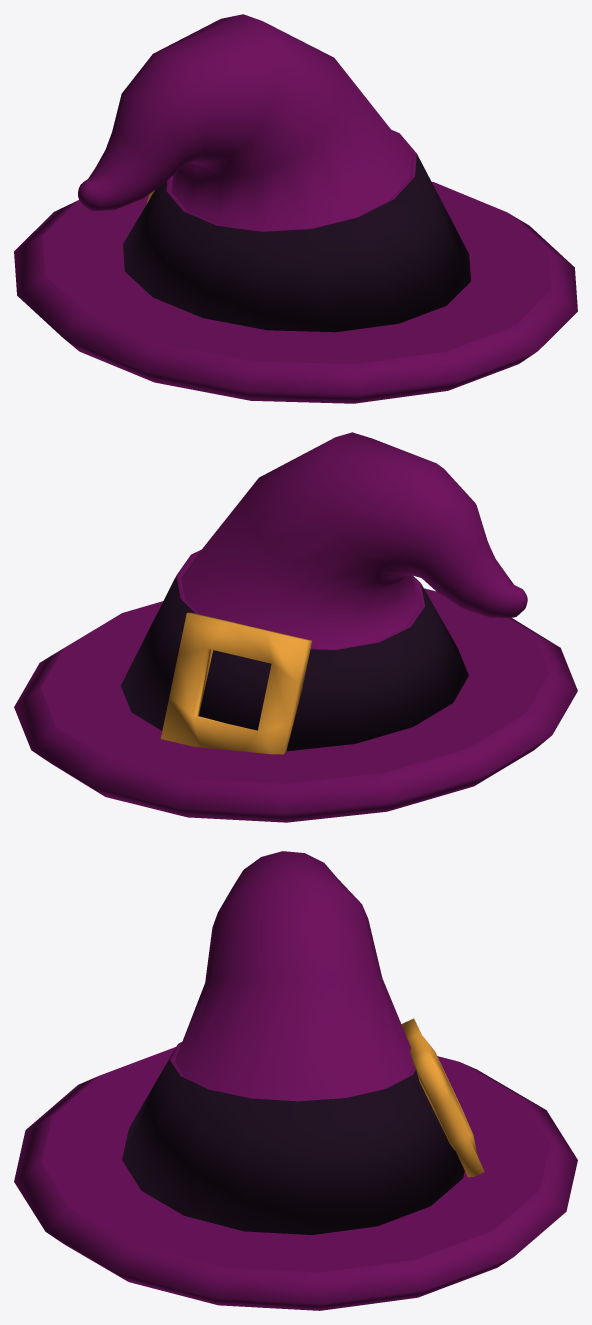
File: WitchHat.glb
3 views of the same model, one above another, from view 1: azimuth 30°, elevation 25°; view 2: azimuth 150°, elevation 25°; view 3: azimuth 270°, elevation 25° (orthographic).
Parts seen in each view (by area): view 1: Hat; view 2: Hat, Buckle; view 3: Hat, Buckle.
Part boxes in pixels (x1,y1,x2,y2): Hat: (14,14,577,403); Hat: (14,432,577,822); Buckle: (160,612,311,754); Hat: (14,851,577,1310); Buckle: (401,1018,484,1177).
Size of the model in its own units: 1.15 by 0.6736 by 1.15.
